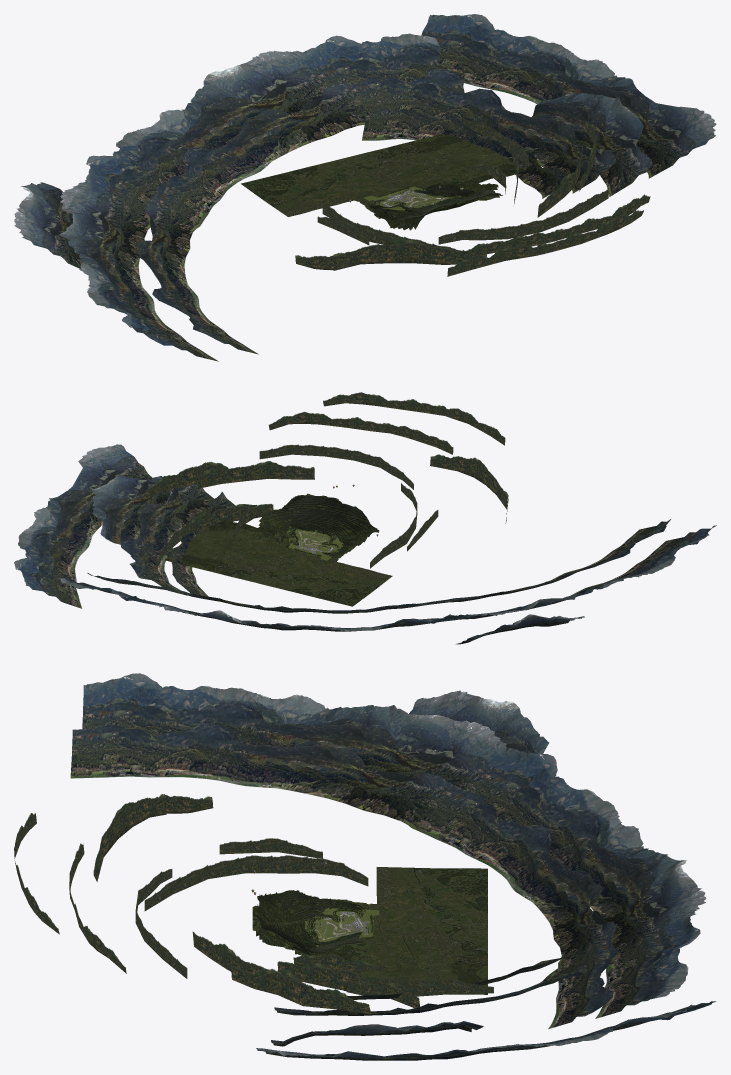
Rendered from redbull_ring.glb.
The picture shows the model from 3 angles, top to bottom: view 1: azimuth 30°, elevation 25°; view 2: azimuth 150°, elevation 25°; view 3: azimuth 270°, elevation 25°; orthographic projection. The views are drawn at different scales.
Visible parts, largest first — view 1: rbring_0; view 2: rbring_0; view 3: rbring_0.
Boxes of the visible parts, bbox=[...] form: rbring_0: bbox=[14, 14, 716, 361]; rbring_0: bbox=[14, 392, 716, 644]; rbring_0: bbox=[14, 673, 716, 1060].
Size of what is drawn, in the model's own units: 17457 by 2151 by 13836.
100 materials, 99 textured.
